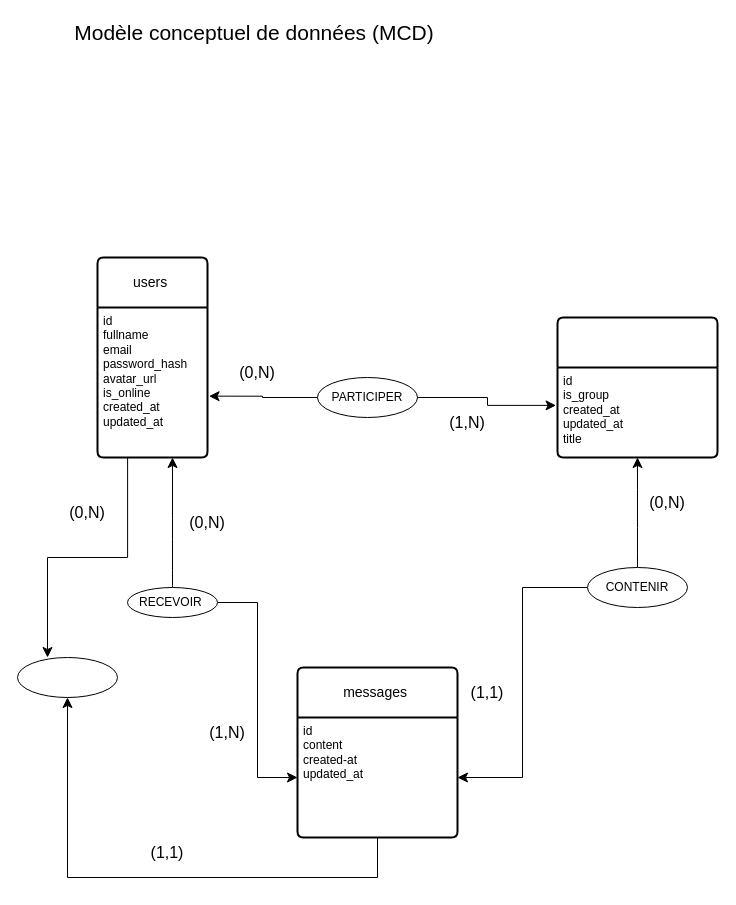
Some shapes in this 736 by 905 pixel diagram are drawn without their labels. Here are the shapes that lost their labels. From the top down, the box of each, then its label:
(556, 316, 718, 458): conversations
(16, 656, 118, 698): ENVOYER
